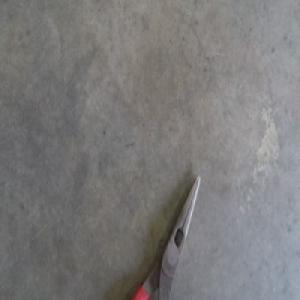Pliers: (132, 174, 200, 298)
